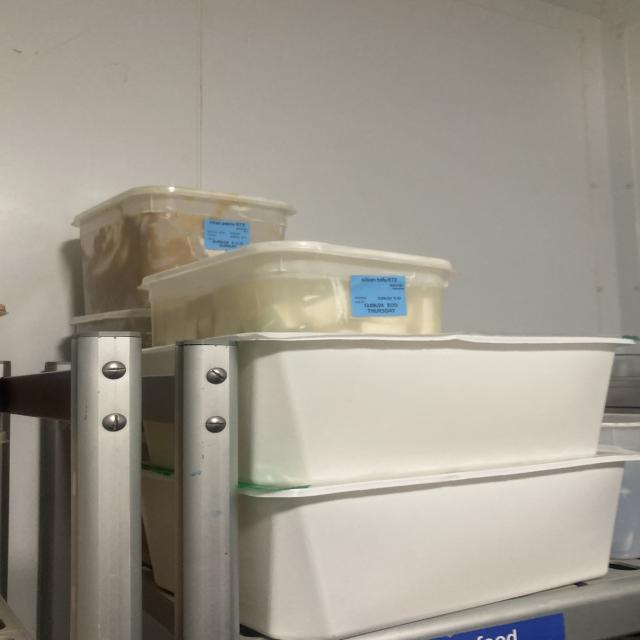product-labels: (350, 275, 408, 317), (203, 220, 252, 252)
